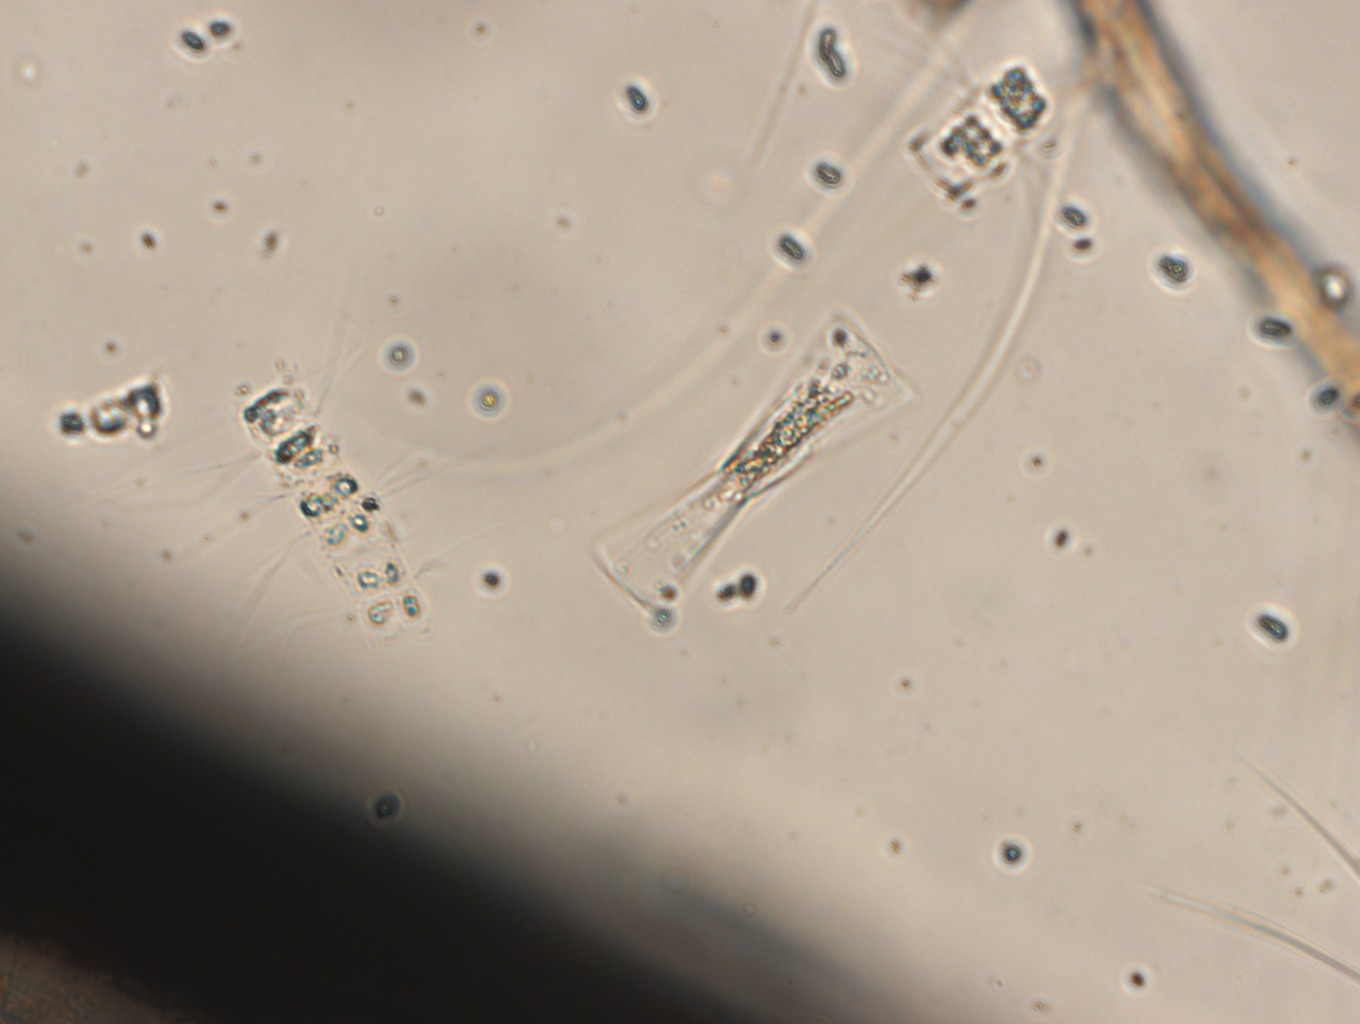chaetoceros: (111, 286, 529, 660)
